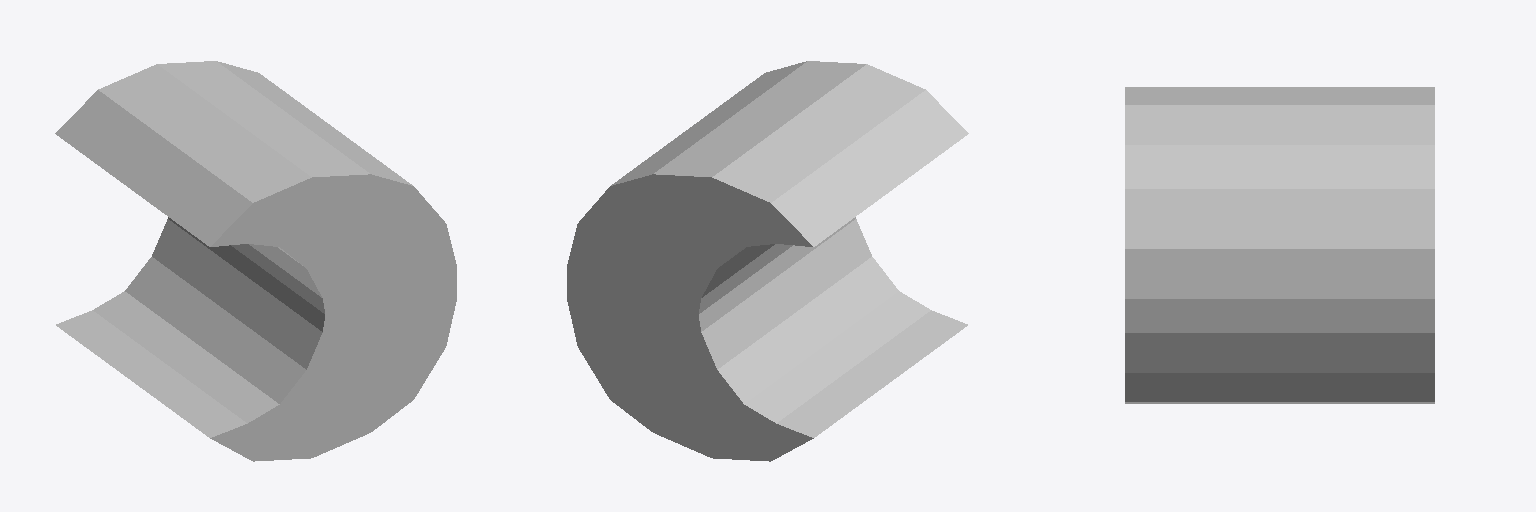
The model's file is moon_prism_block_type2.obj.
3 views of the same model, side by side, from view 1: azimuth 30°, elevation 25°; view 2: azimuth 150°, elevation 25°; view 3: azimuth 270°, elevation 25° (orthographic).
Size of the model in its own units: 0.046 by 0.05 by 0.05.